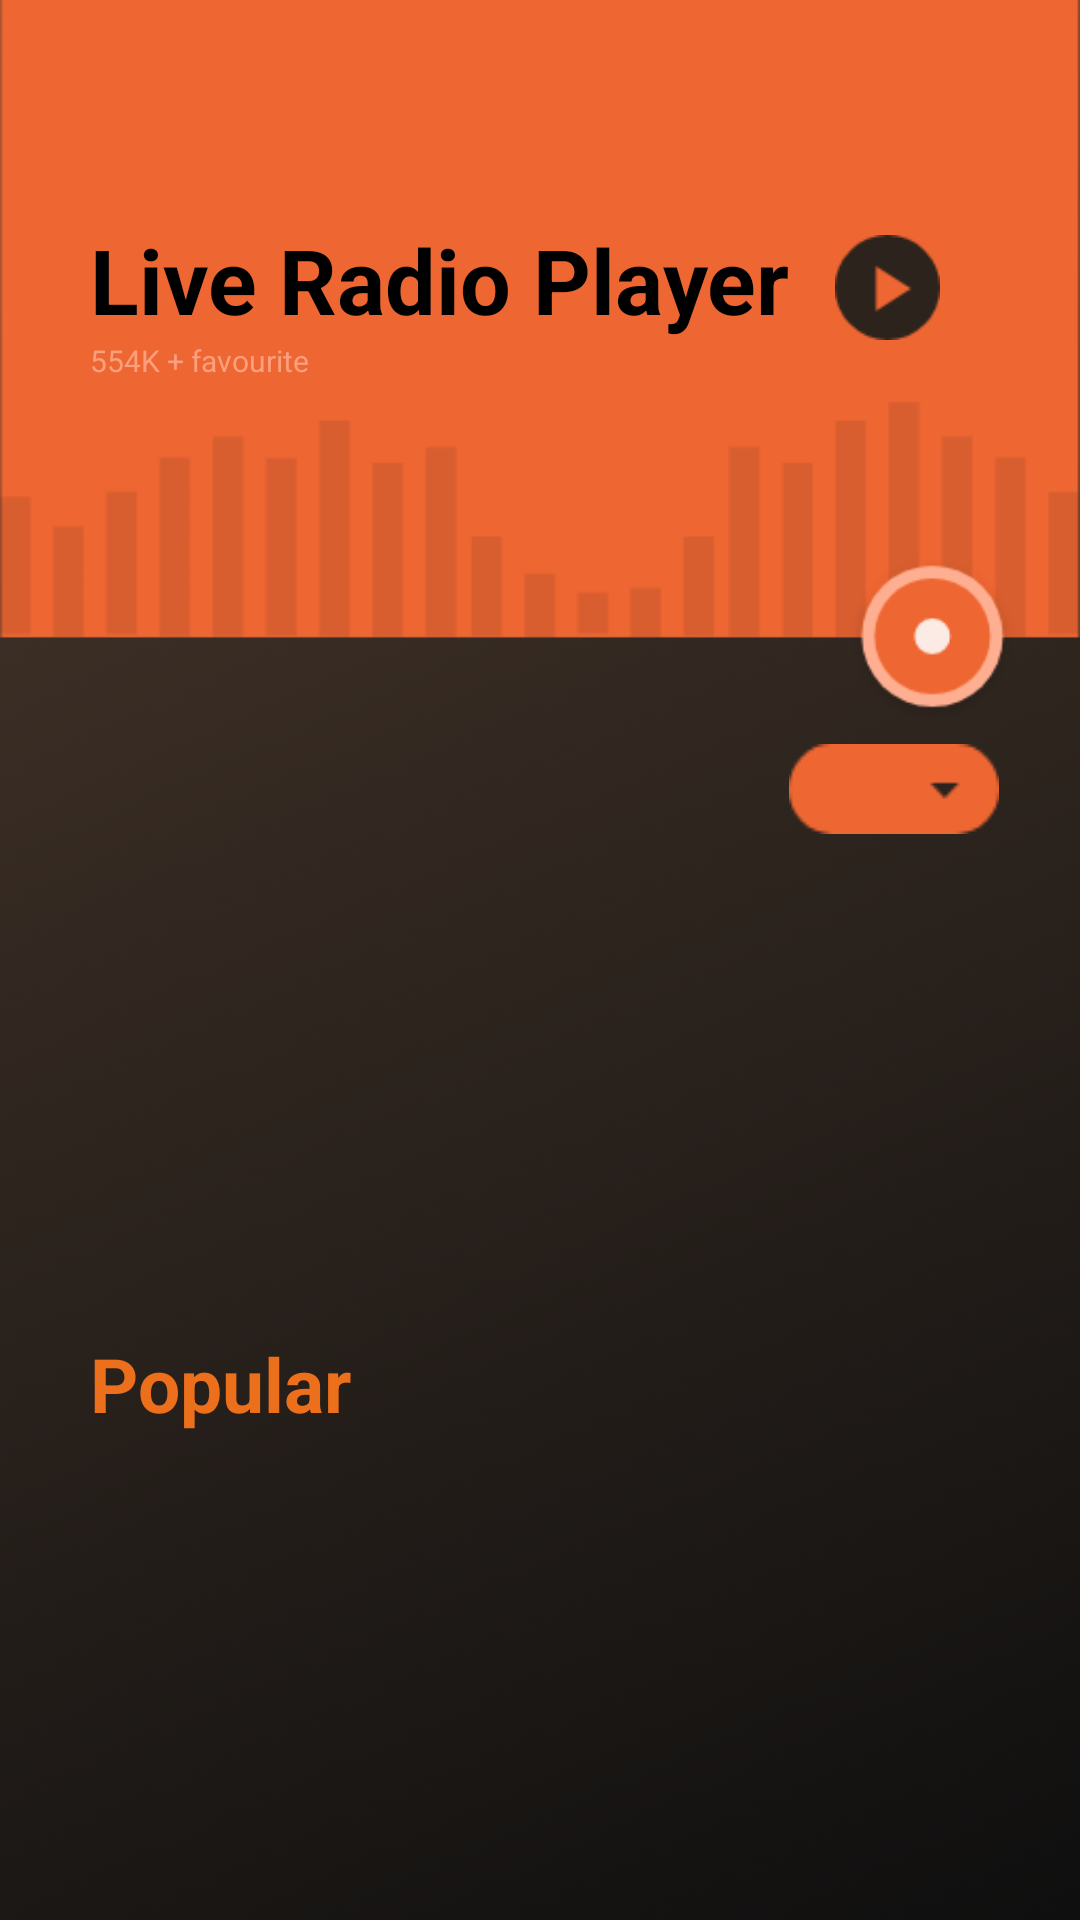

Where to tap for icons on this 1080x1920 app screen, as (x=x, y=y):
top play: (x=887, y=287)
